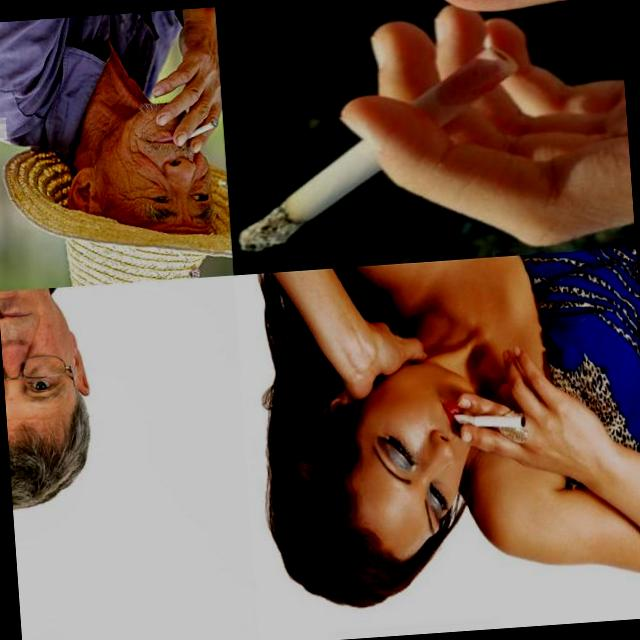smoke: (224, 46, 530, 255), (453, 411, 526, 434), (178, 119, 221, 142), (0, 292, 5, 325)
